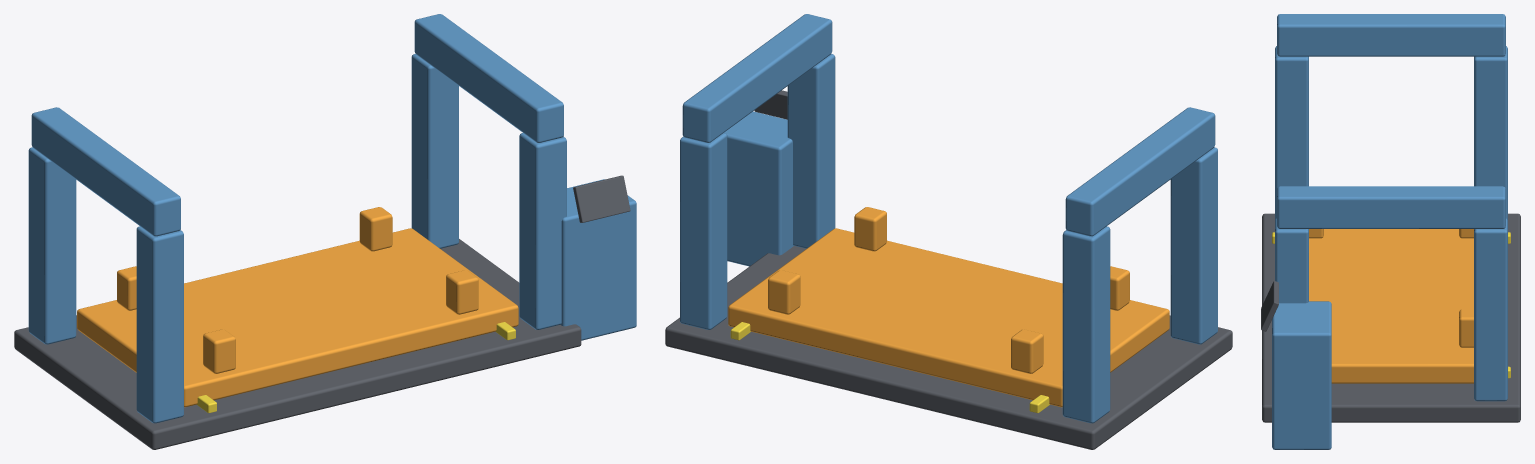
The model's file is marriage-station-lift.glb.
3 renders of one model, left to right at view 1: azimuth 30°, elevation 25°; view 2: azimuth 150°, elevation 25°; view 3: azimuth 270°, elevation 25°, orthographic. The views are drawn at different scales.
Parts seen in each view (by area): view 1: marriage-station-lift, lift; view 2: marriage-station-lift, lift; view 3: marriage-station-lift, lift.
Boxes of the visible parts, left/top/right/bottom form: marriage-station-lift: left=14, top=14, right=636, bottom=449; lift: left=77, top=207, right=518, bottom=407; marriage-station-lift: left=665, top=14, right=1232, bottom=449; lift: left=728, top=207, right=1169, bottom=407; marriage-station-lift: left=1261, top=14, right=1520, bottom=449; lift: left=1309, top=229, right=1473, bottom=383.
Bounding box in the file's own units: 5.25 × 2.46 × 2.61.
